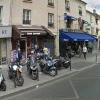Motorcycle: (4, 56, 60, 85)
